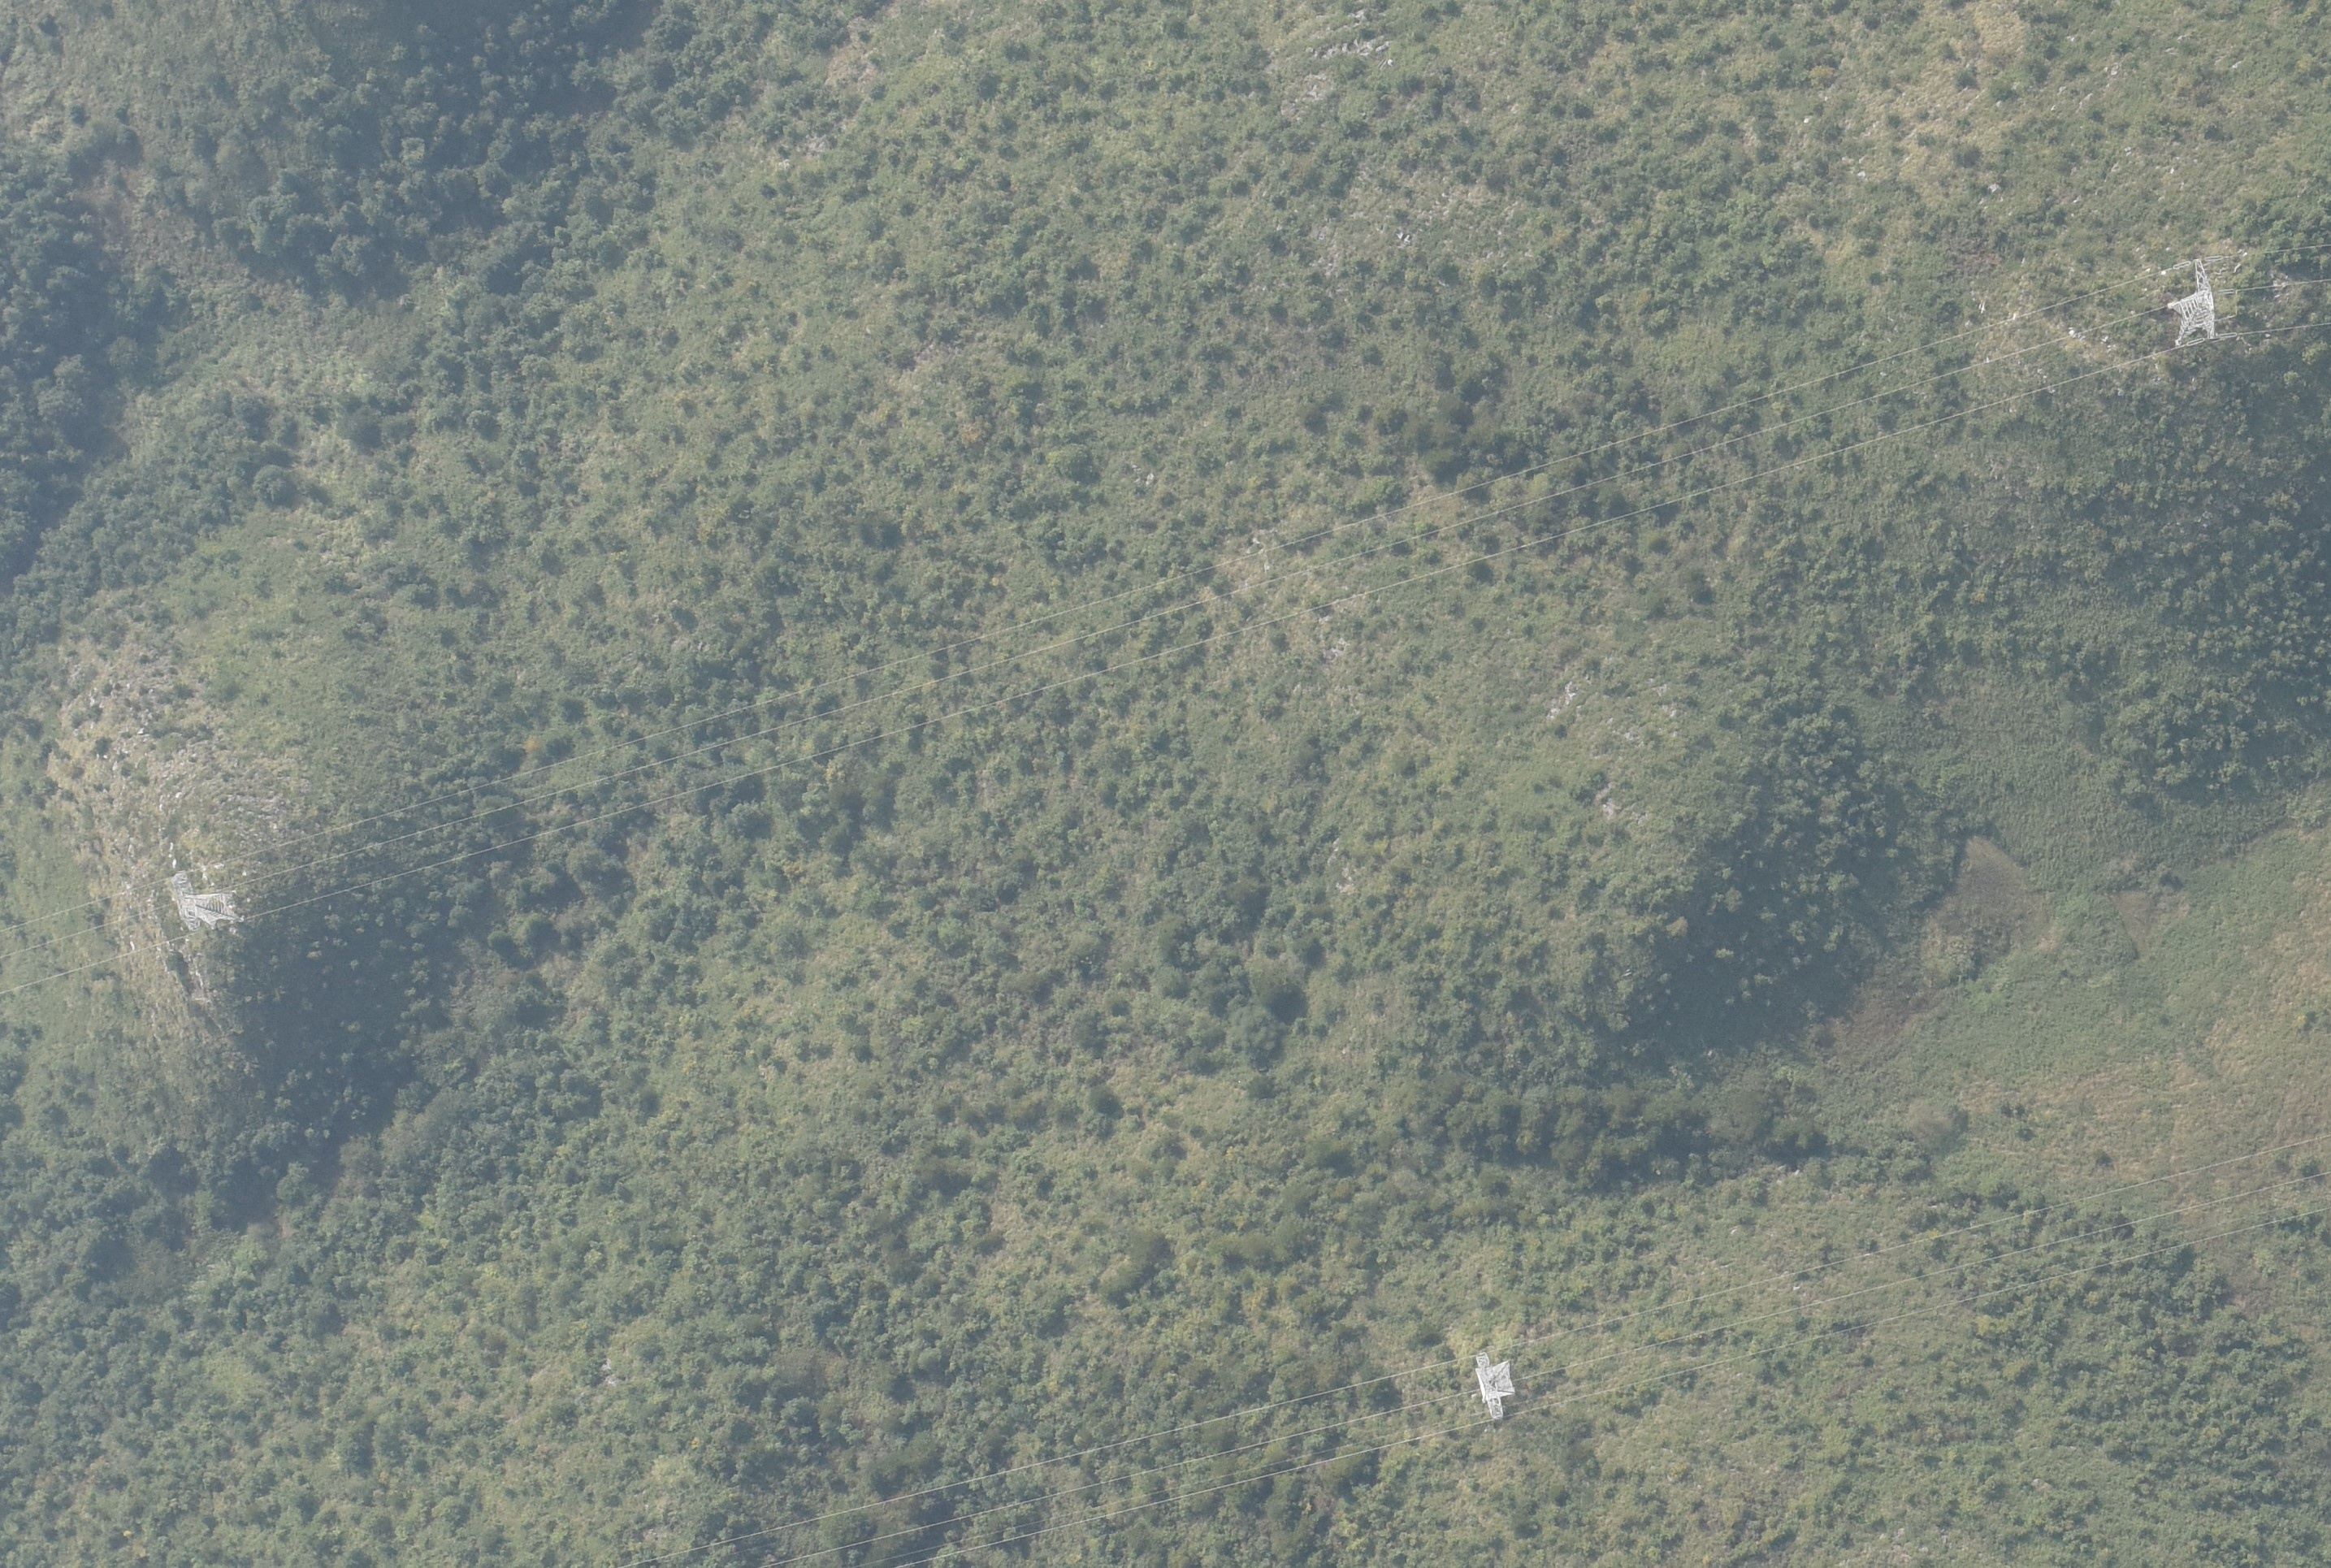cable-tower: (2166, 255, 2238, 344), (171, 869, 236, 931), (1474, 1350, 1514, 1421)
